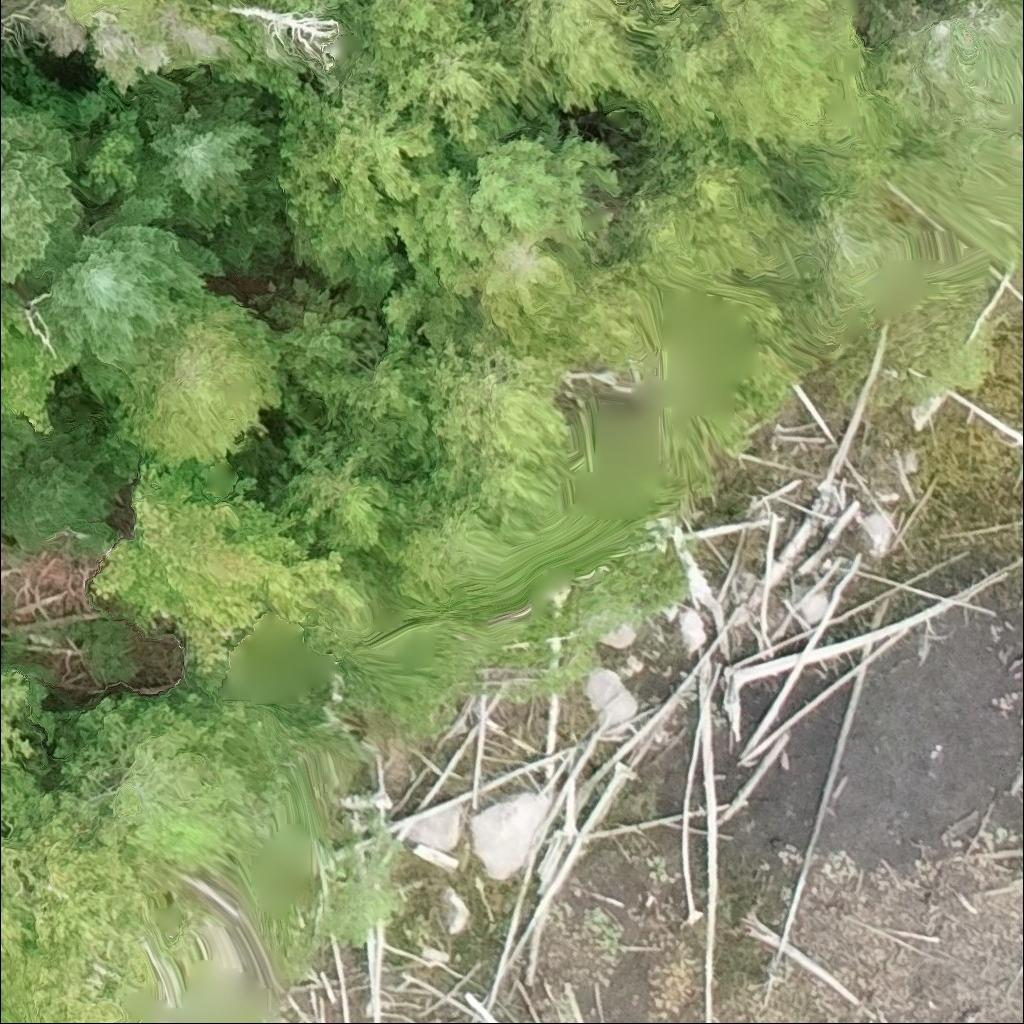crown: (90, 456, 386, 695), (28, 193, 226, 404), (391, 119, 622, 295), (0, 792, 163, 1023), (56, 683, 268, 848), (266, 78, 438, 281), (103, 289, 287, 474), (420, 337, 576, 529), (345, 0, 520, 161), (137, 67, 276, 230), (475, 0, 658, 115), (302, 329, 439, 478), (268, 425, 411, 555), (0, 90, 89, 287), (528, 258, 669, 377), (0, 422, 120, 550), (259, 278, 369, 387), (339, 249, 414, 304), (0, 668, 42, 763), (0, 286, 26, 389), (646, 0, 681, 7), (621, 0, 638, 3)
